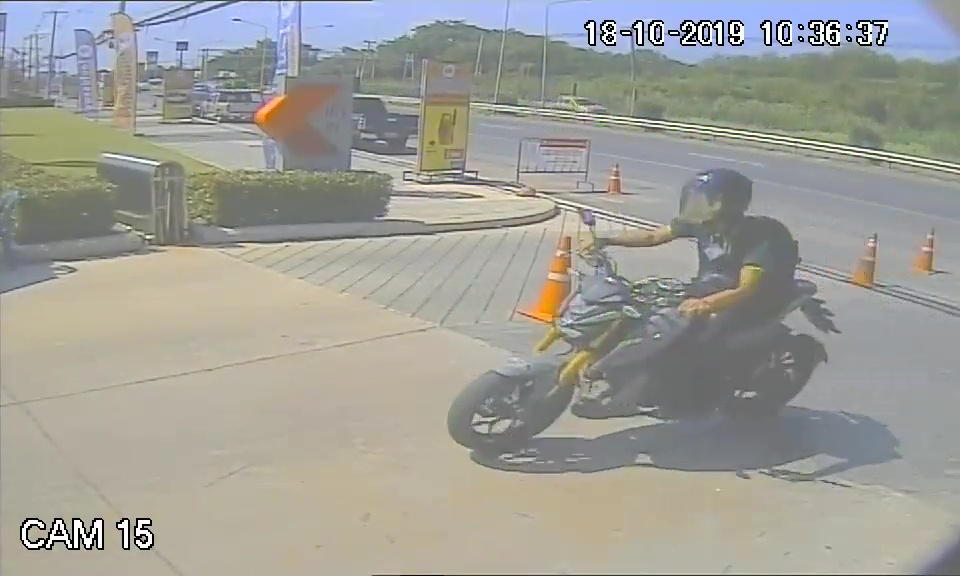motorcycle: (447, 267, 838, 451)
